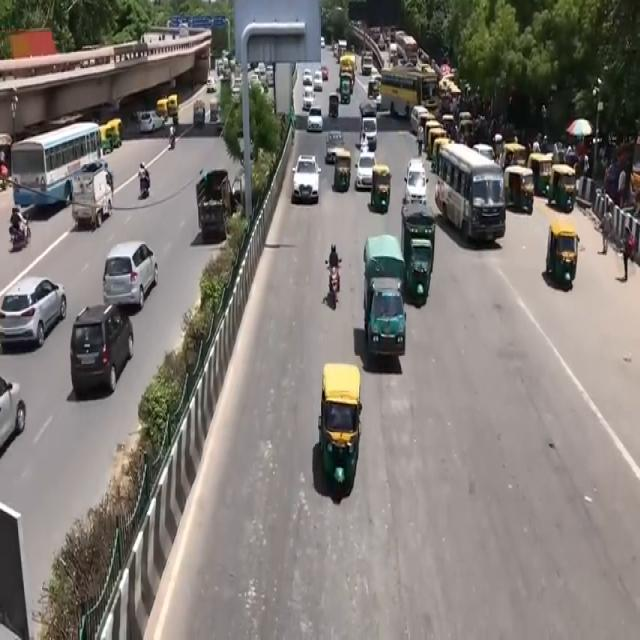BUS: (13, 120, 108, 212), (436, 143, 510, 251), (381, 65, 442, 118)
MOTORCYCLE: (328, 264, 340, 312)
TRUCK: (196, 170, 232, 245)
